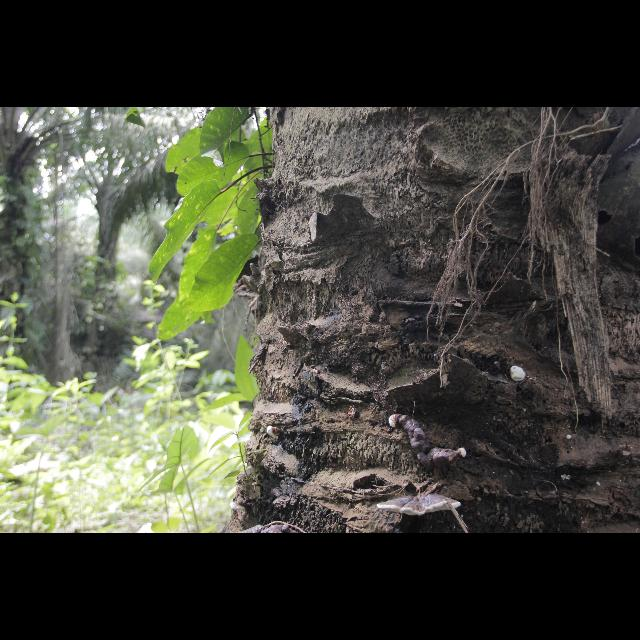ganoderma: (402, 416, 458, 470), (378, 494, 463, 518), (233, 526, 300, 535), (230, 501, 252, 513)
primordium: (511, 367, 527, 384), (268, 427, 285, 441), (389, 415, 401, 430), (459, 448, 468, 460), (567, 435, 573, 442)
